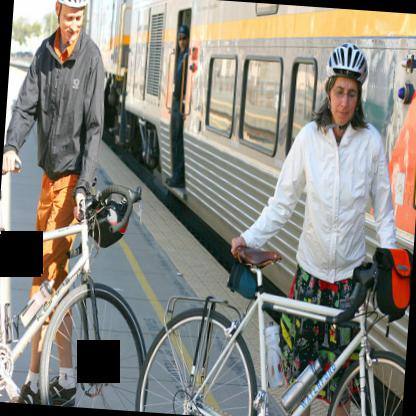handbag: (376, 248, 413, 315)
